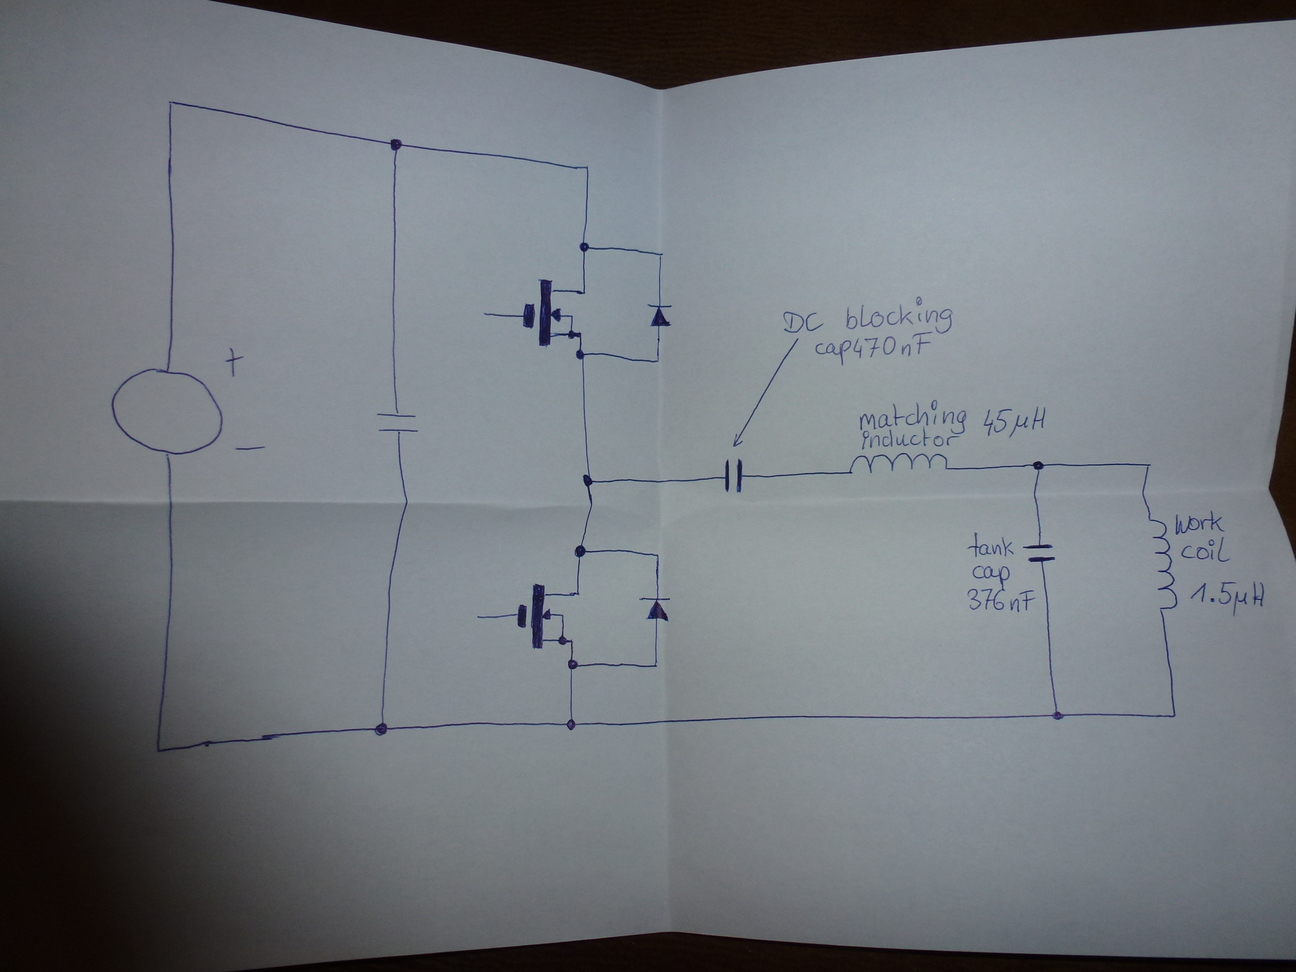capacitor.unpolarized: (373, 407, 421, 438), (721, 454, 746, 495), (1021, 540, 1058, 565)
diode: (637, 592, 674, 627), (644, 299, 677, 333)
inductor: (1145, 516, 1180, 613), (846, 450, 950, 476)
junction: (386, 134, 405, 154), (371, 719, 391, 738), (579, 471, 598, 490), (150, 739, 168, 759), (572, 542, 589, 560), (1049, 708, 1065, 724), (1029, 457, 1046, 473), (576, 239, 591, 254), (563, 716, 578, 732), (565, 657, 580, 672), (1167, 707, 1181, 723), (1140, 459, 1154, 474), (574, 348, 588, 362), (649, 547, 663, 561), (579, 161, 593, 175), (653, 247, 666, 261), (164, 95, 177, 109), (649, 659, 661, 671), (650, 355, 663, 366)
terminal: (471, 611, 485, 622), (478, 310, 491, 318)
text: (843, 294, 955, 335), (814, 330, 934, 368), (856, 397, 967, 436), (1187, 576, 1266, 619), (856, 426, 961, 450), (980, 401, 1047, 439), (964, 583, 1035, 613), (1172, 507, 1229, 537), (1179, 535, 1233, 564), (967, 532, 1015, 558), (777, 309, 826, 335), (969, 564, 1012, 585)
transistor: (513, 580, 584, 652), (520, 277, 588, 349)
voltage.dc: (104, 362, 229, 464)
